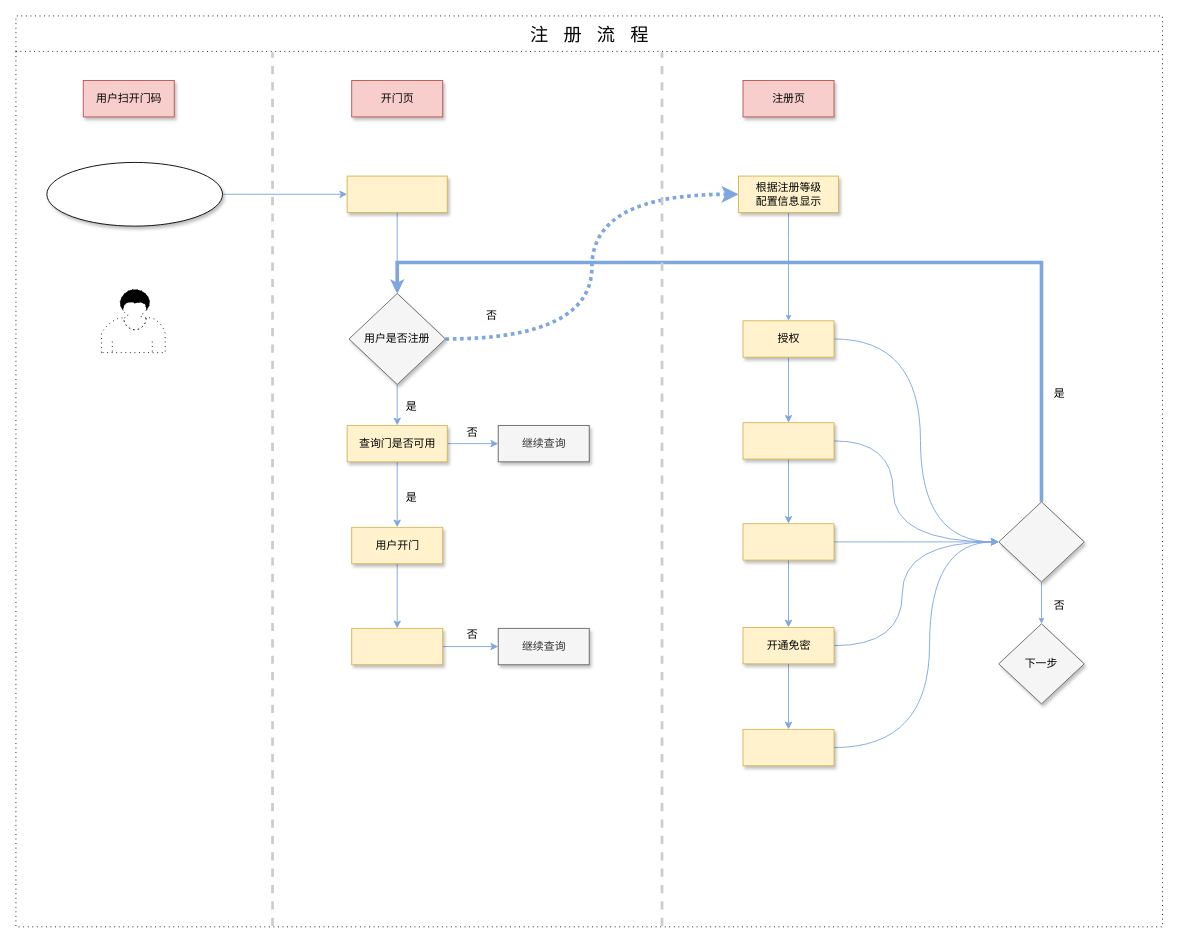
The diagram is 1178 pixels wide and 944 high, and some of its shapes have lost their labels. The shapes that lost their labels are listed below. From the top down, each one's centre as x and y in pixels, then its label:
At (x=135, y=195): "https://passport.ocpay.cn/? y=548327&p=496240,5594,602".
At (x=398, y=195): "获取配置信息".
At (x=788, y=441): "绑定手机号".
At (x=788, y=542): "上传人脸".
At (x=1042, y=542): "是否 注册完成".
At (x=397, y=647): "查询用户 开门状态".
At (x=788, y=748): "年费会员".
